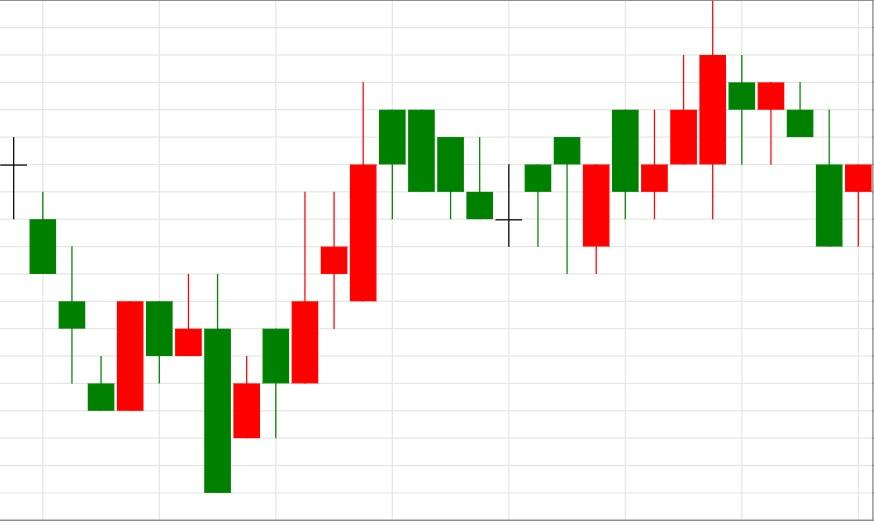bearish_engulfing_fall: (86, 274, 232, 494)
bullish_engulfing_rise: (0, 136, 145, 412)
